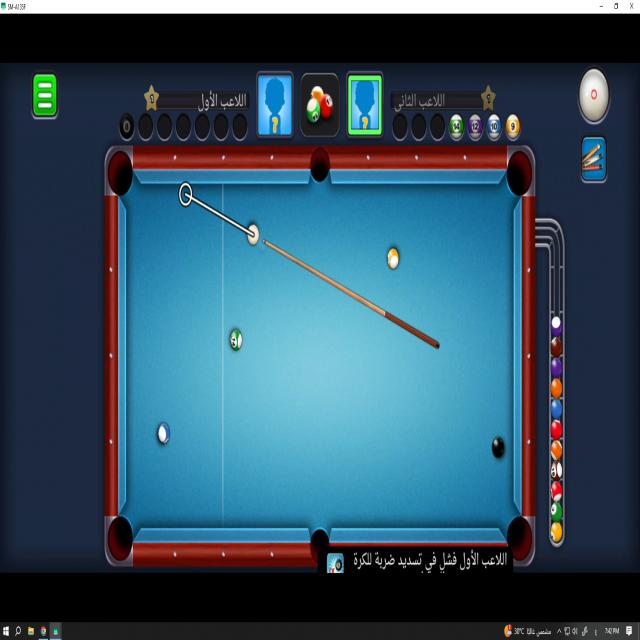object_ball: (230, 330, 242, 350), (492, 437, 503, 457), (158, 423, 169, 443)
white_cue_ball: (246, 221, 261, 248)
